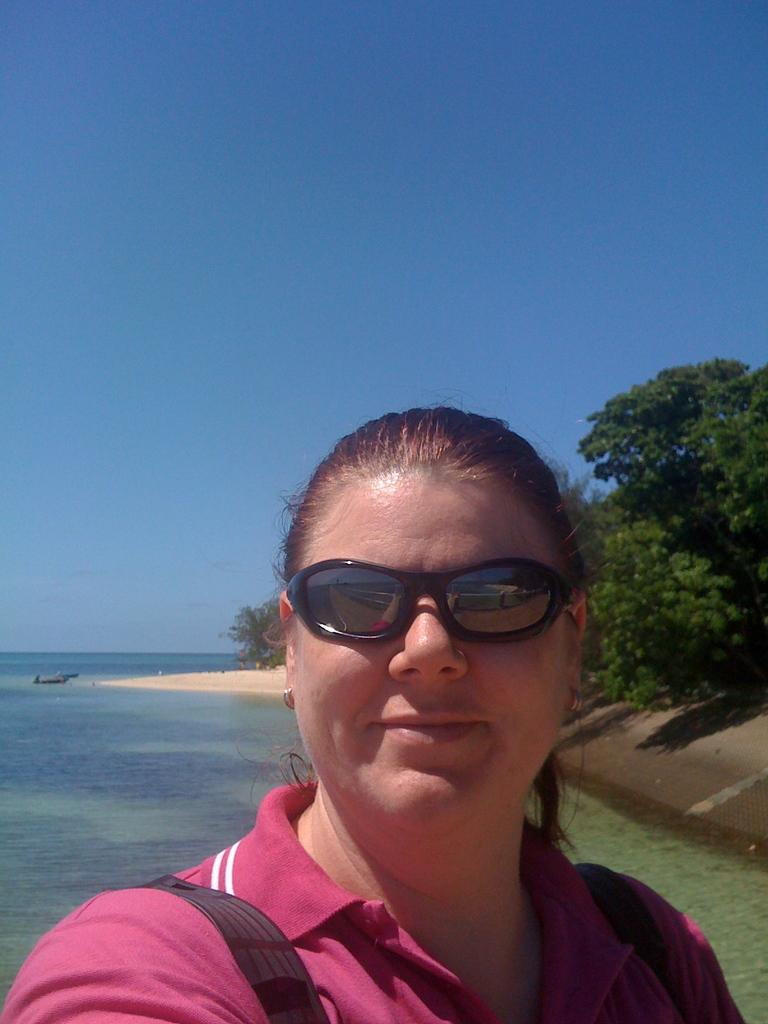Sem Máscara: (289, 478, 563, 845)
